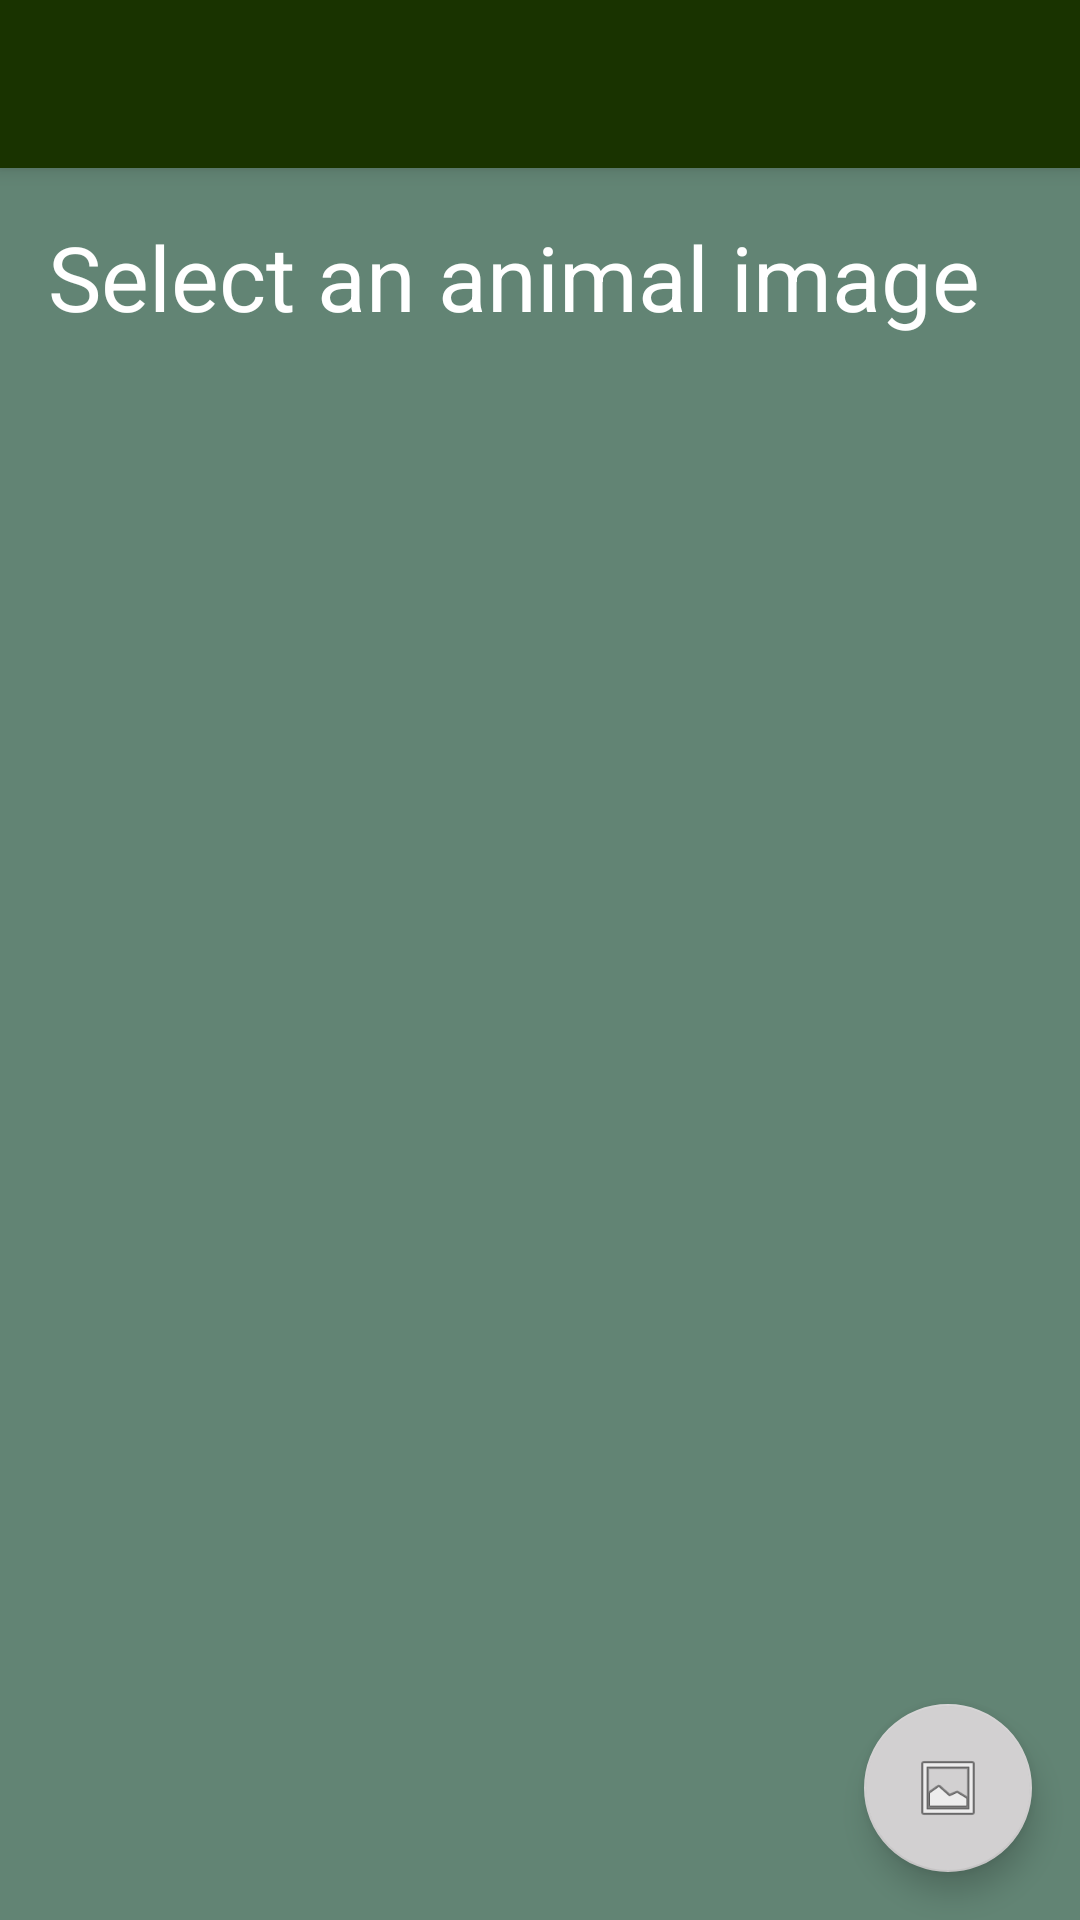

Where to tap for icons on this 1080x1920 app screen, as (x=x, y=y):
gallery: (x=948, y=1788)
